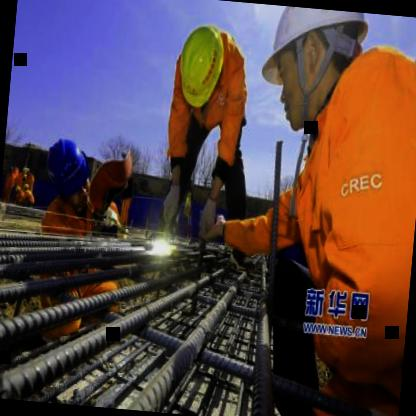helmet: (254, 5, 375, 130), (170, 18, 236, 131), (40, 132, 90, 202)
